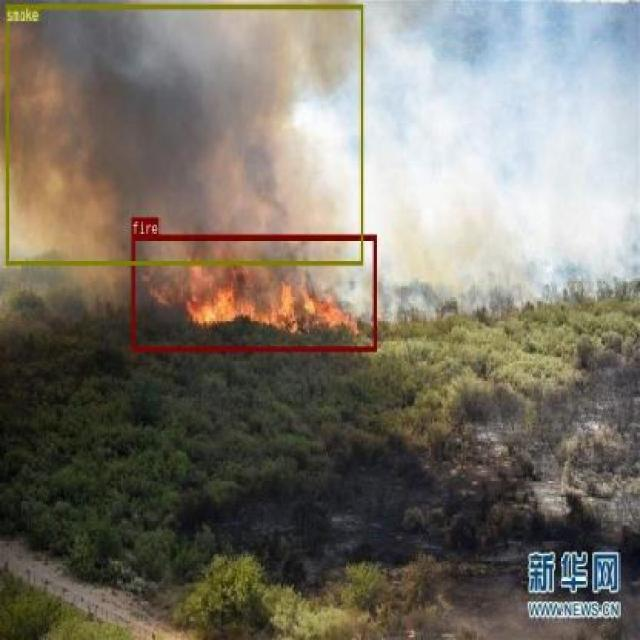fire: (130, 233, 376, 350)
smoke: (5, 4, 362, 264)
